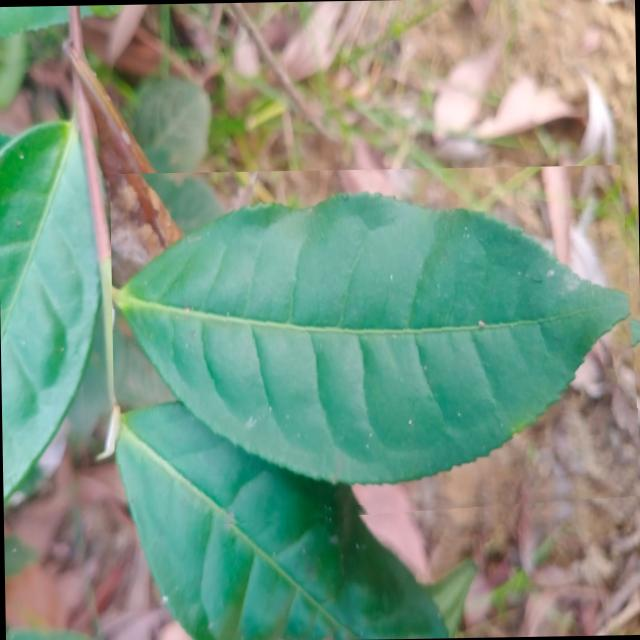Category D(7+ days, Not for Tea): (109, 163, 640, 530)
